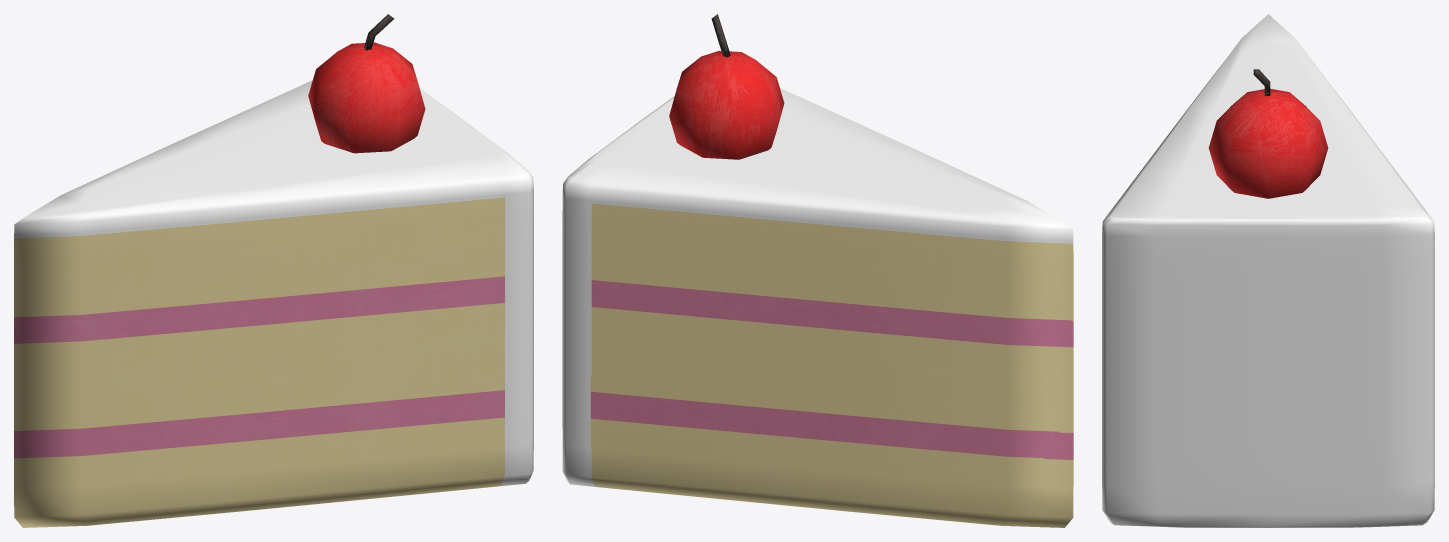
The model's file is cake.obj.
3 renders of one model, left to right at view 1: azimuth 30°, elevation 25°; view 2: azimuth 150°, elevation 25°; view 3: azimuth 270°, elevation 25°, orthographic.
Parts seen in each view (by area): view 1: cake_Cube.002; view 2: cake_Cube.002; view 3: cake_Cube.002.
Boxes of the visible parts, x1,y1,x2,y2 form: cake_Cube.002: (14, 14, 533, 527); cake_Cube.002: (562, 14, 1073, 527); cake_Cube.002: (1102, 14, 1434, 527).
Bounding box in the file's own units: 0.6119 × 0.5716 × 0.4058.
1 material, 1 textured.
